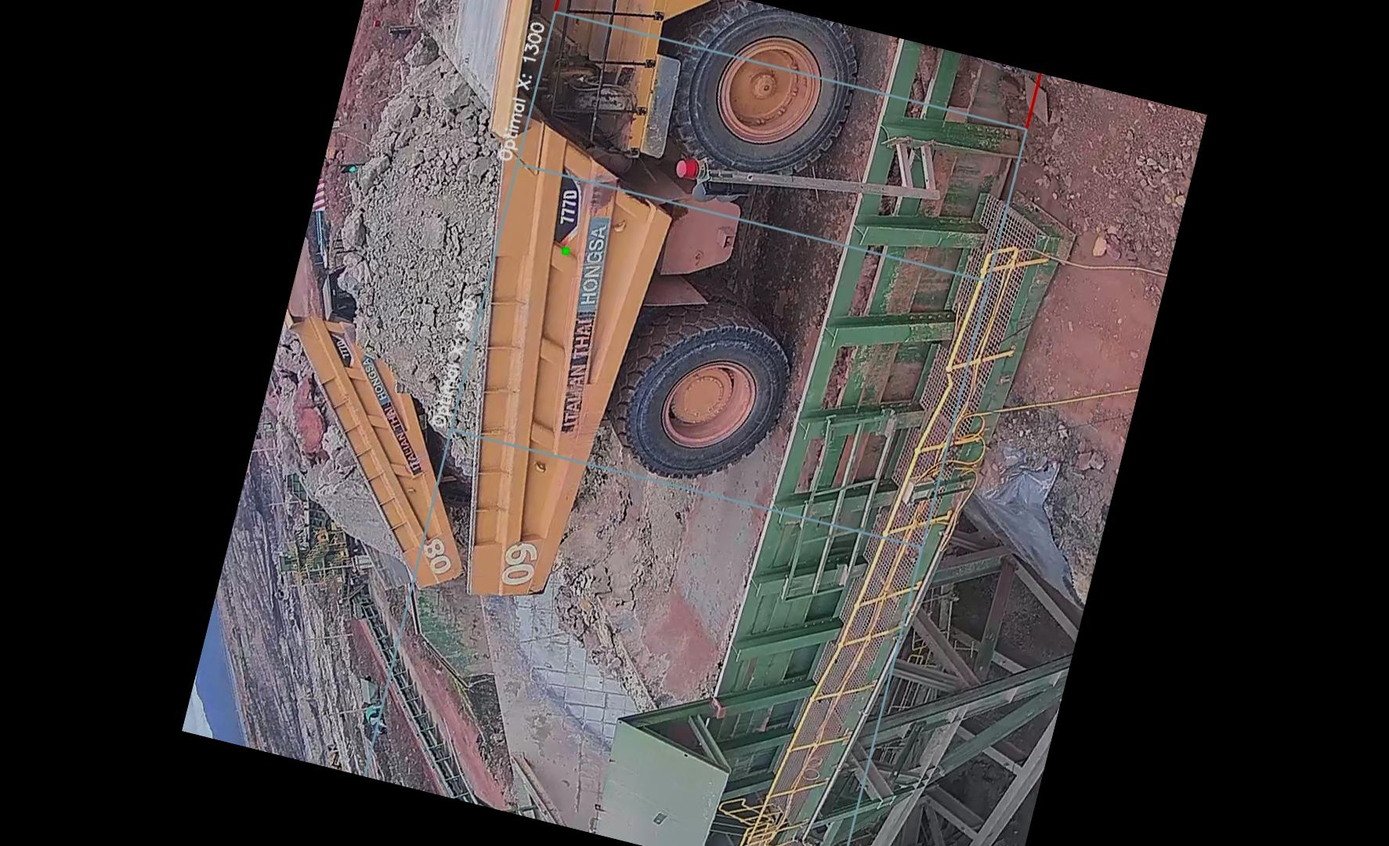company: (532, 201, 640, 447)
full_load: (311, 74, 539, 387)
mining_truck: (245, 0, 884, 674)
tail_number: (483, 528, 553, 597)
truck_size: (544, 165, 595, 249)
